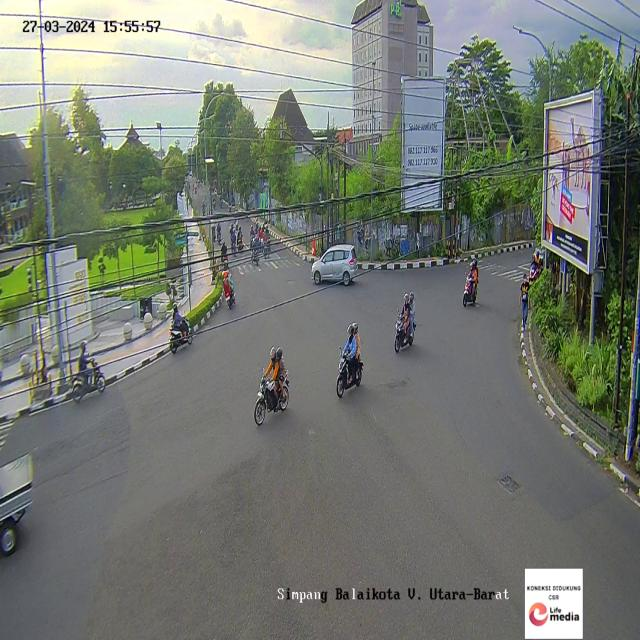car: (311, 249, 358, 288)
motorcycle: (252, 346, 291, 423), (71, 339, 109, 413), (336, 322, 364, 398), (392, 290, 418, 350), (169, 305, 191, 354), (464, 254, 479, 318), (222, 267, 236, 311), (220, 242, 230, 276), (252, 238, 260, 266), (230, 228, 237, 255)
